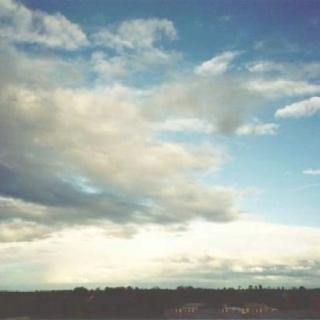Stratocumulus: (0, 12, 320, 282)
